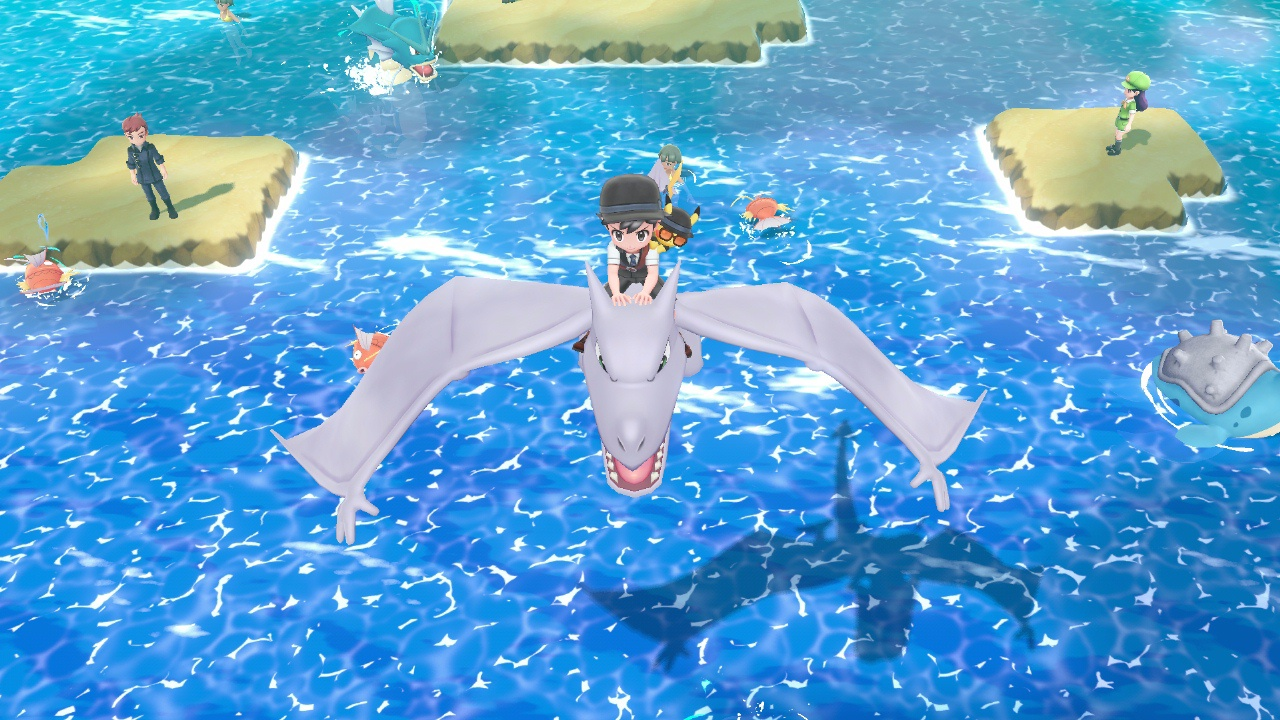Red: (18, 249, 68, 297), (348, 329, 398, 376), (743, 194, 793, 231)
